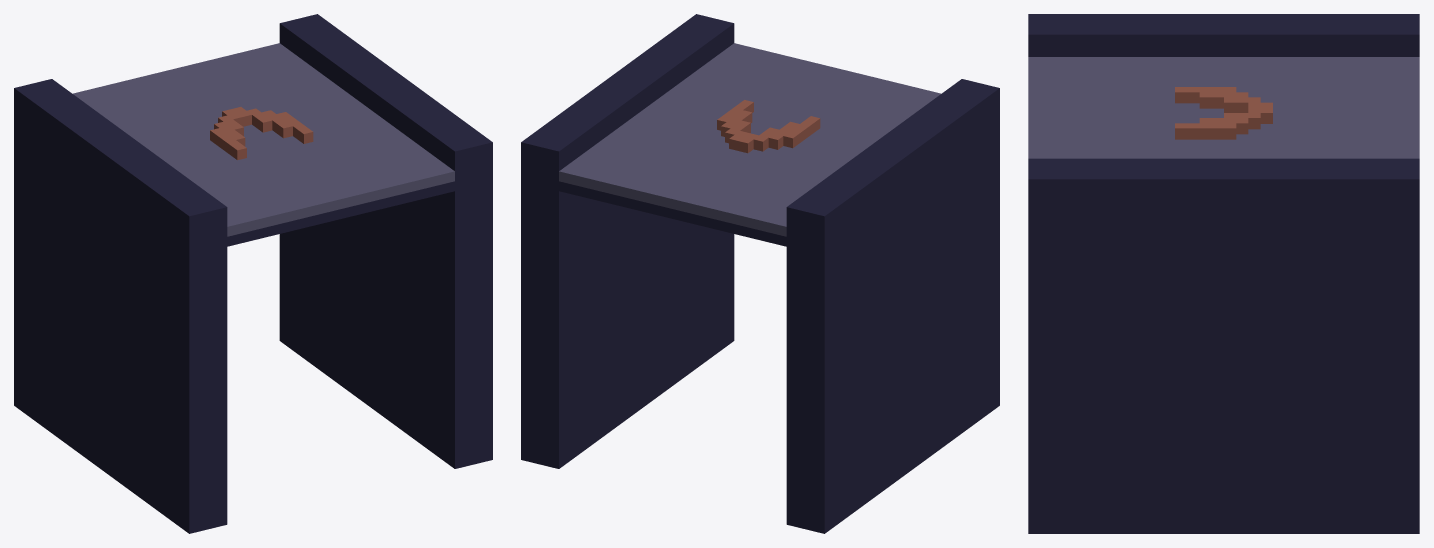
File: slow_conveyer.obj
3 views of the same model, side by side, from view 1: azimuth 30°, elevation 25°; view 2: azimuth 150°, elevation 25°; view 3: azimuth 270°, elevation 25° (orthographic). The views are drawn at different scales.
Size of the model in its own units: 3.2 by 3.2 by 3.2.
Materials: 1 (1 with a texture image).
